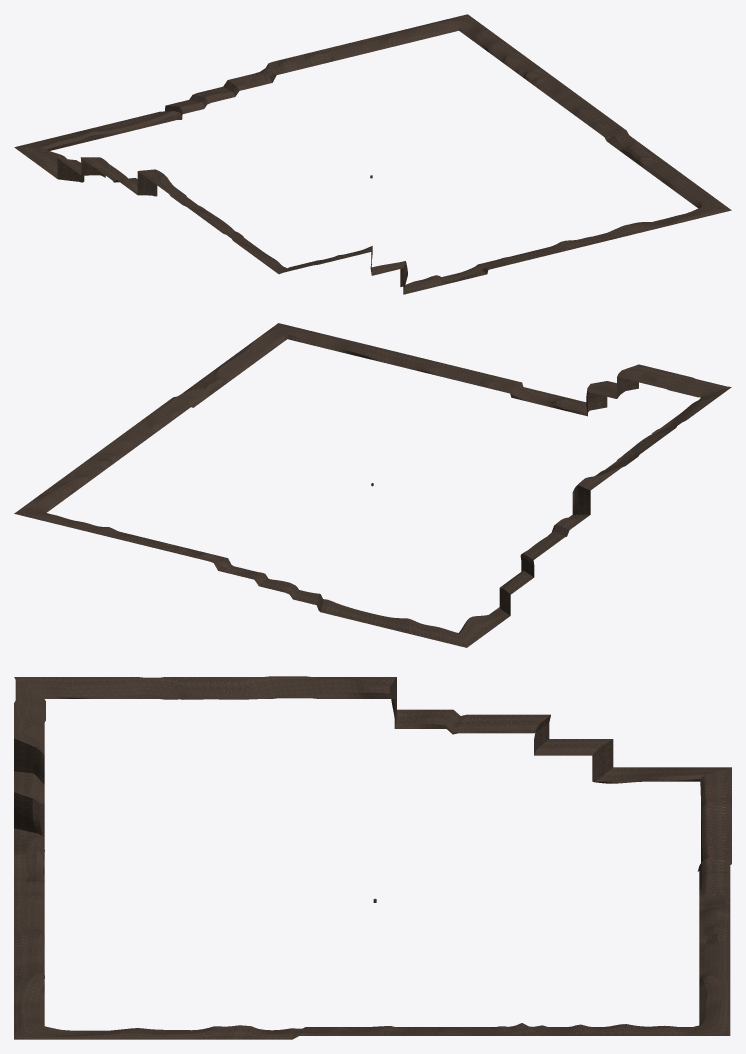
Rendered from perimeter.fbx.
3 views of the same model, one above another, from view 1: azimuth 30°, elevation 25°; view 2: azimuth 150°, elevation 25°; view 3: azimuth 270°, elevation 25° (orthographic). The views are drawn at different scales.
Parts seen in each view (by area): view 1: Perimeter; view 2: Perimeter; view 3: Perimeter.
Part boxes in pixels (bbox=[...]): Perimeter: bbox=[14, 14, 731, 294]; Perimeter: bbox=[14, 323, 731, 647]; Perimeter: bbox=[14, 676, 731, 1039].
Bounding box in the file's own units: 110 × 16.43 × 111.
